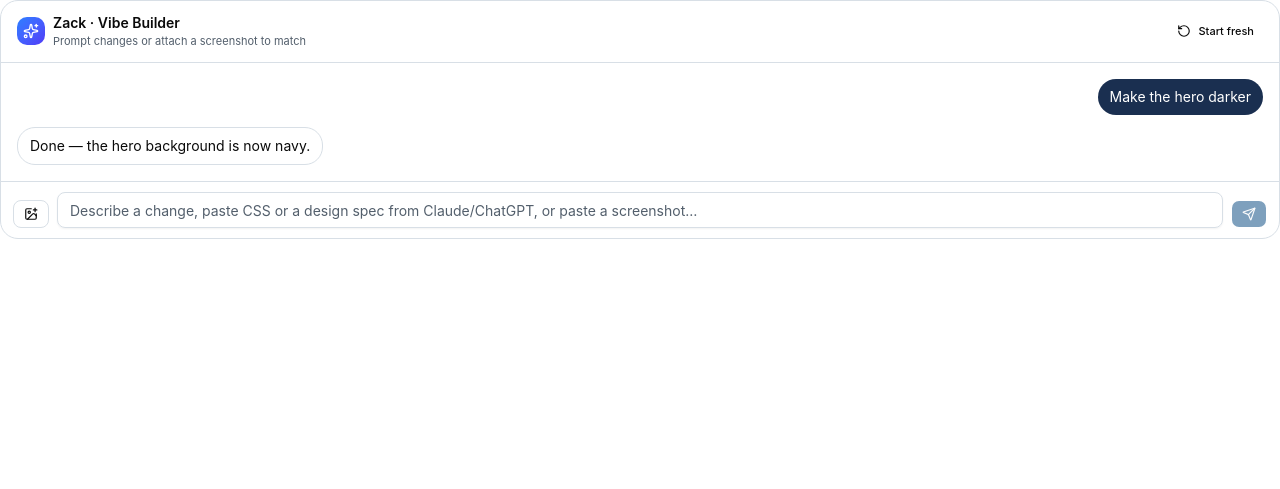
Scenario: Vibe composer — interaction › sends a suggestion pill as the next message
This screenshot has width=1280, height=489.
Replace the text in the text box with placeholder "paste CSS or a design spec from Claude/ChatGPT" with "Darken the hero" at (640, 210), box [57,192,1223,228]
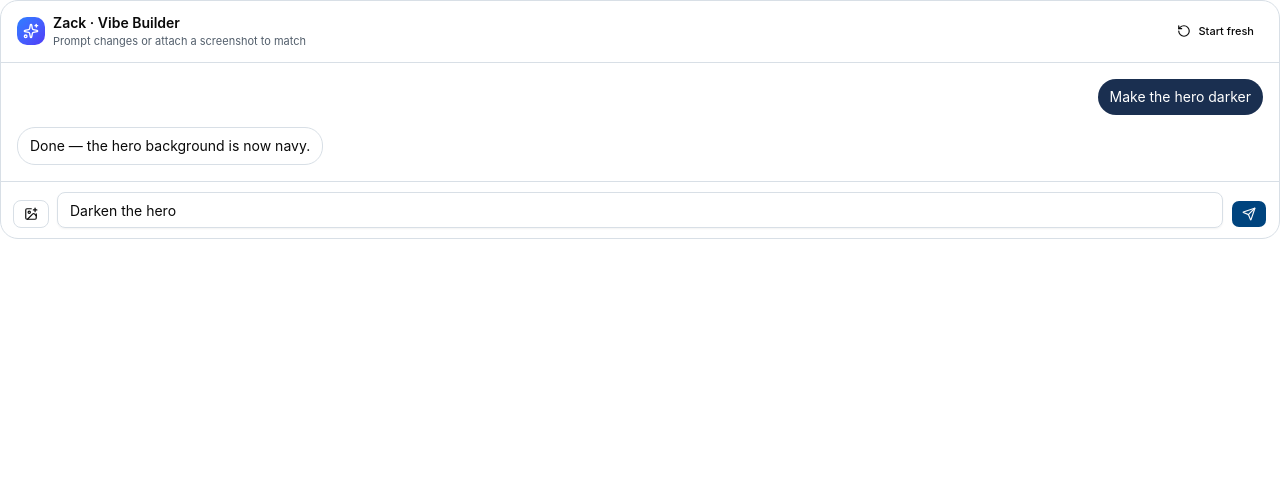
Submit the form with placeholder "paste CSS or a design spec from Claude/ChatGPT", box [1,180,1279,238]
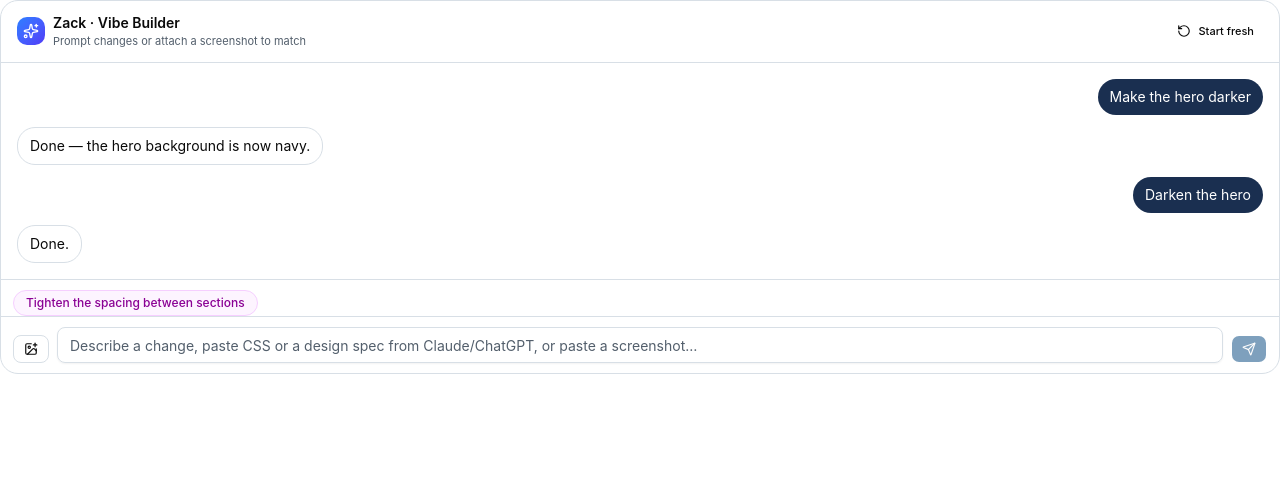
Click the button "Tighten the spacing between sections" at (135, 302), box [13,290,258,316]
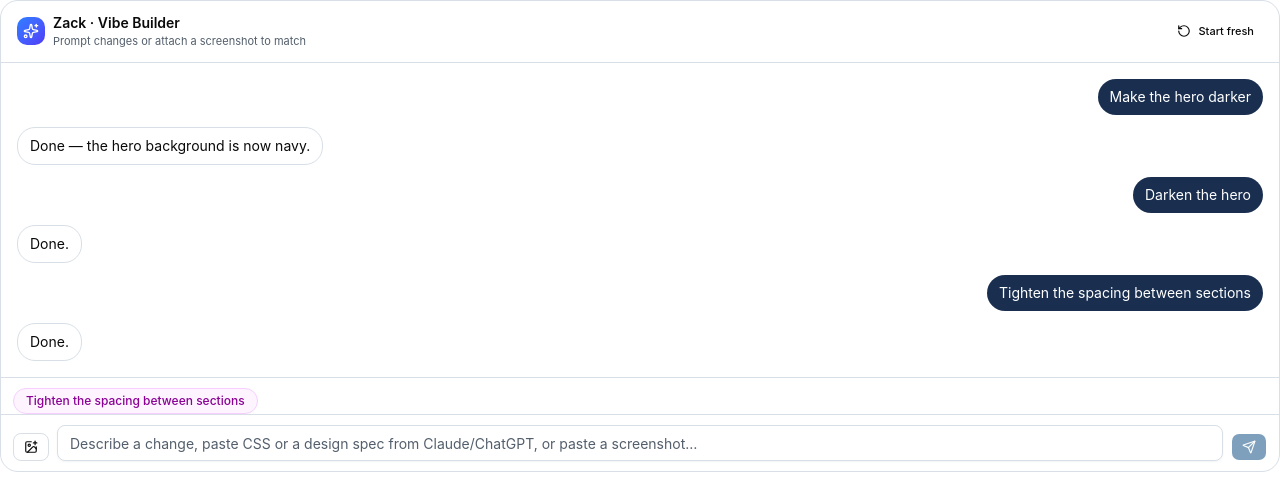
expect the text "Tighten the spacing between sections" is shown: met, box [987,274,1263,310]
